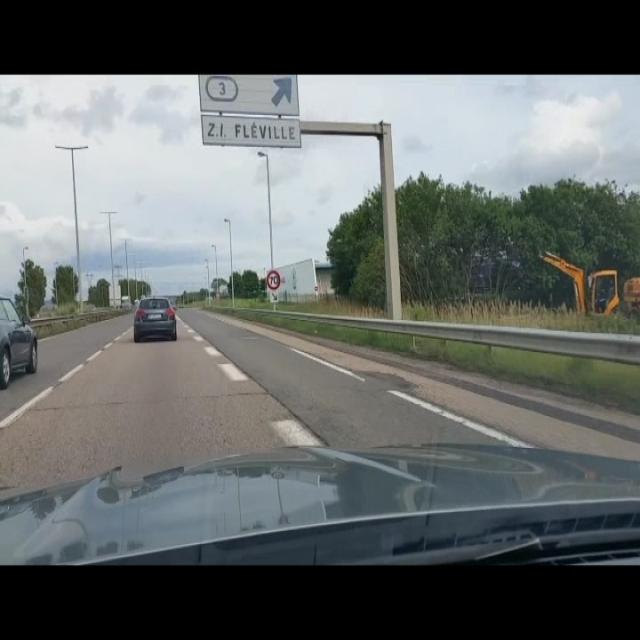direction: (201, 75, 299, 146)
side_right: (270, 291, 279, 303)
speed_70: (266, 270, 282, 290)
